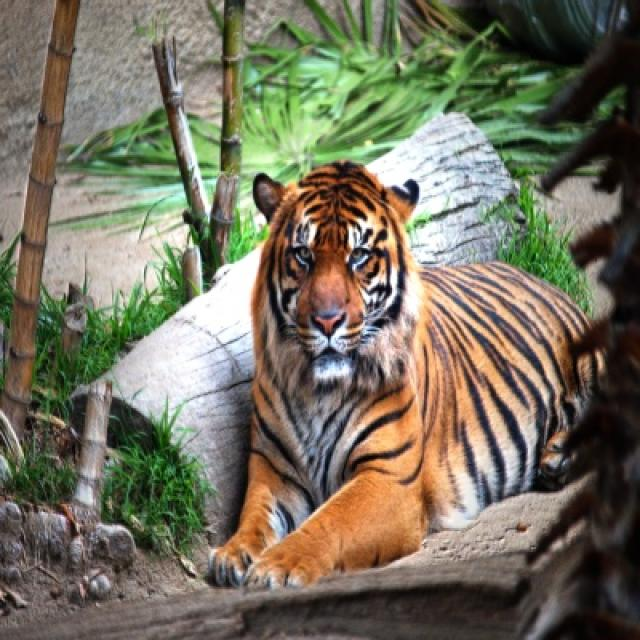Tiger: (211, 166, 591, 590)
